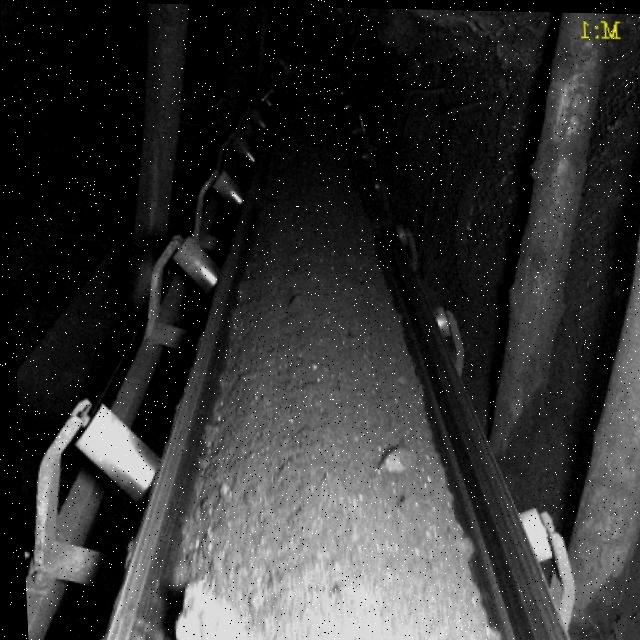large_sized_coal: (165, 581, 249, 640), (377, 444, 412, 472)
